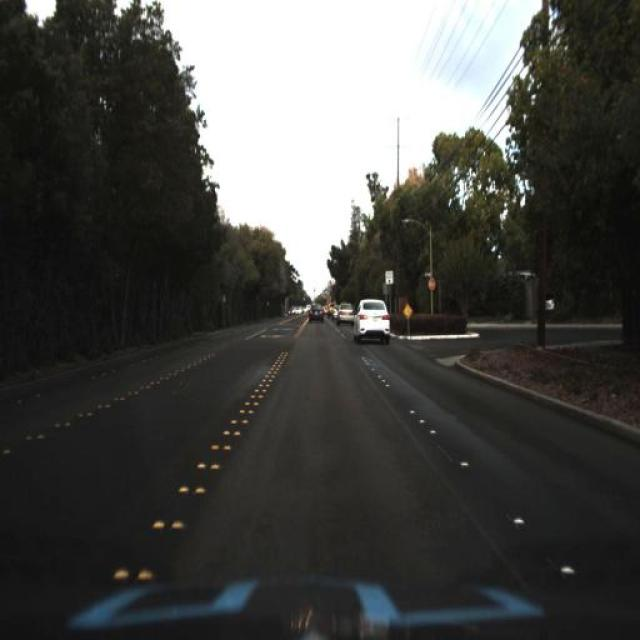car: (351, 294, 395, 348), (306, 306, 326, 330), (335, 298, 353, 324)
